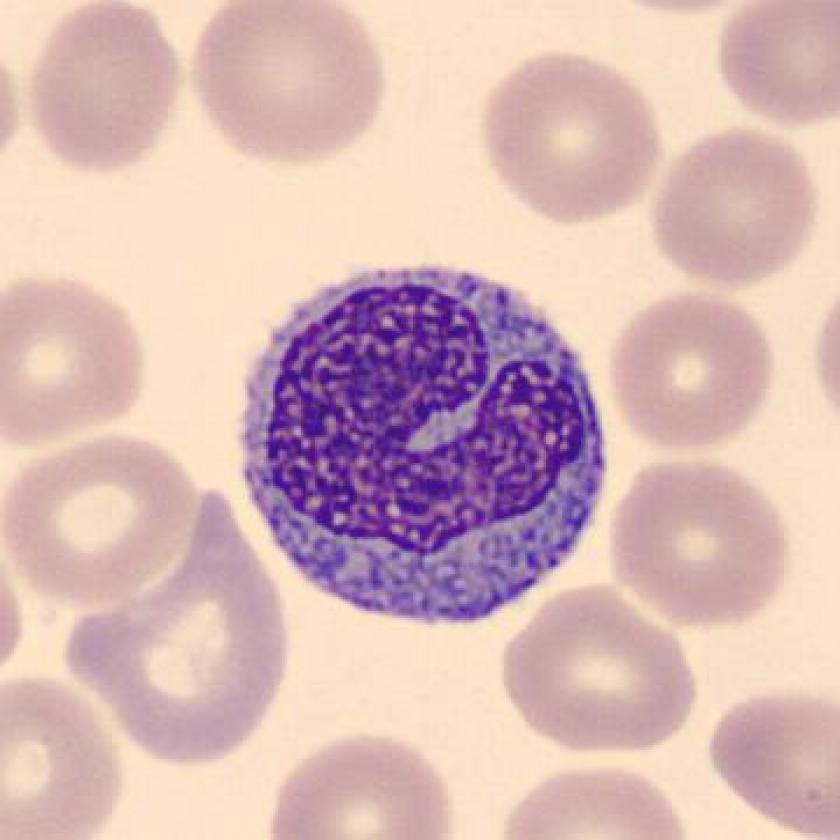monocyte: (225, 244, 626, 651)
